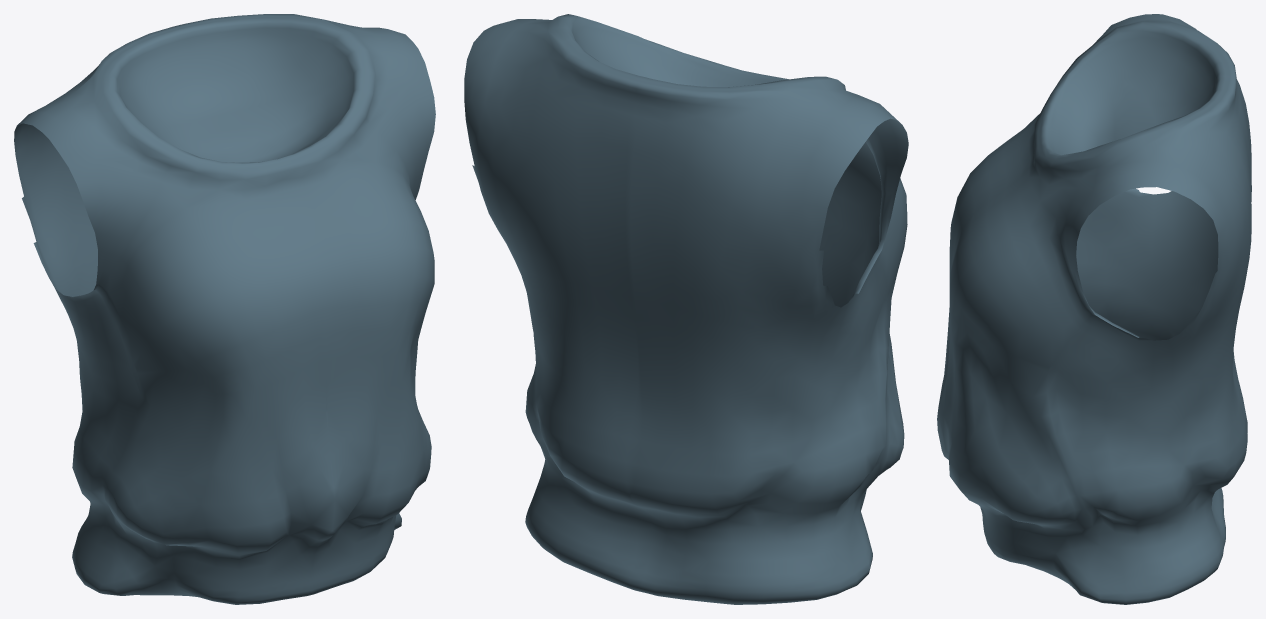
The model's file is top2.fbx.
3 views of the same model, side by side, from view 1: azimuth 30°, elevation 25°; view 2: azimuth 150°, elevation 25°; view 3: azimuth 270°, elevation 25° (orthographic). The views are drawn at different scales.
Parts seen in each view (by area): view 1: t-shirt_l; view 2: t-shirt_l; view 3: t-shirt_l.
Part boxes in pixels (x1=…): t-shirt_l: x1=14, y1=14, x2=435, y2=604; t-shirt_l: x1=464, y1=14, x2=908, y2=604; t-shirt_l: x1=937, y1=14, x2=1251, y2=604.
Size of the model in its own units: 24.32 by 30.81 by 18.64.
